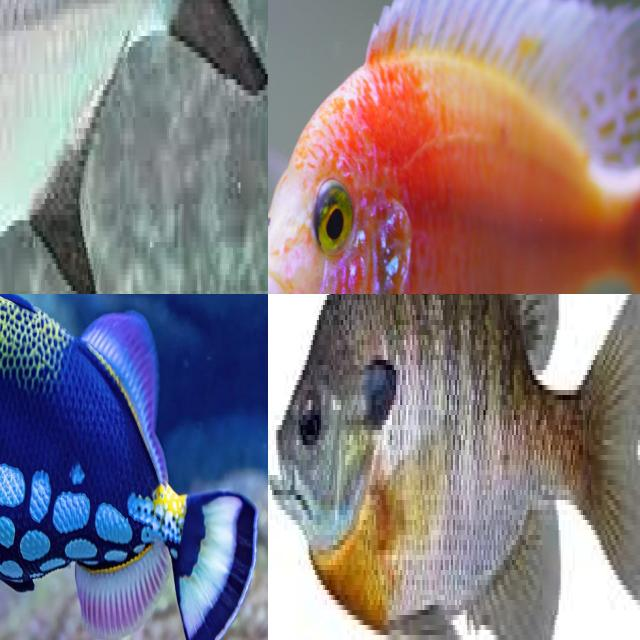fish: (268, 294, 640, 640), (0, 0, 268, 294), (0, 294, 85, 575)
